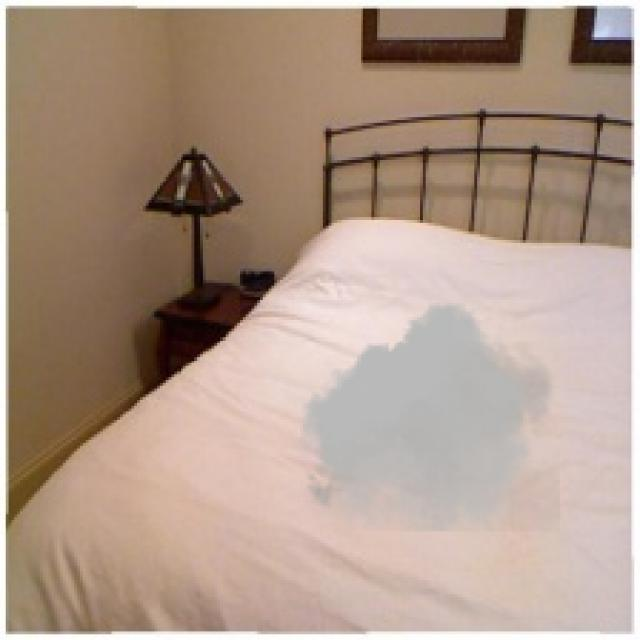smoke: (297, 303, 560, 531)
